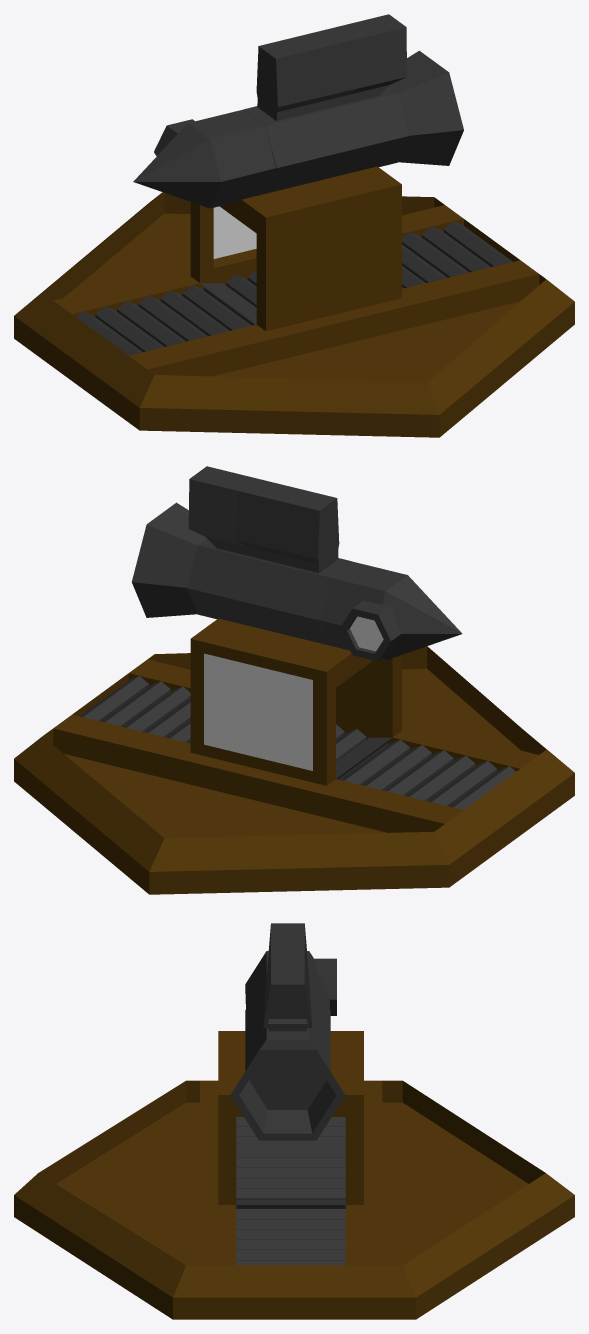
Rendered from rocketFactory.fbx.
3 views of the same model, one above another, from view 1: azimuth 30°, elevation 25°; view 2: azimuth 150°, elevation 25°; view 3: azimuth 270°, elevation 25° (orthographic). The views are drawn at different scales.
Visible parts, largest first — view 1: Convoyer Belt Rocket Factory, Rocket Factory Base, Rocket Tank 1, Rocket Main Part, Rocket Cockpit Main Part, Rocket Engine; view 2: Convoyer Belt Rocket Factory, Rocket Factory Base, Rocket Tank 1, Rocket Main Part, Rocket Cockpit Main Part, Rocket Engine, Rocket Cockpit Second Part; view 3: Rocket Factory Base, Convoyer Belt Rocket Factory, Rocket Engine, Rocket Tank 1, Rocket Main Part, Rocket Cockpit Main Part, Rocket Cockpit Second Part.
Part boxes in pixels (x1,y1,x2,y2): Convoyer Belt Rocket Factory: (53,166,539,376); Rocket Factory Base: (14,192,574,437); Rocket Tank 1: (256,14,407,121); Rocket Main Part: (244,86,408,193); Rocket Cockpit Main Part: (133,109,275,208); Rocket Engine: (389,50,463,165); Convoyer Belt Rocket Factory: (53,618,538,832); Rocket Factory Base: (14,646,574,894); Rocket Tank 1: (188,466,339,573); Rocket Main Part: (187,539,351,645); Rocket Cockpit Main Part: (320,561,462,660); Rocket Engine: (132,502,206,617); Rocket Cockpit Second Part: (339,600,400,661); Rocket Factory Base: (14,1080,574,1319); Convoyer Belt Rocket Factory: (200,1031,382,1265); Rocket Engine: (230,1039,345,1140); Rocket Tank 1: (263,923,312,1031); Rocket Main Part: (245,977,330,1071); Rocket Cockpit Main Part: (245,951,329,1008); Rocket Cockpit Second Part: (314,958,336,1015).
Size of the model in its own units: 200 by 127 by 231.
